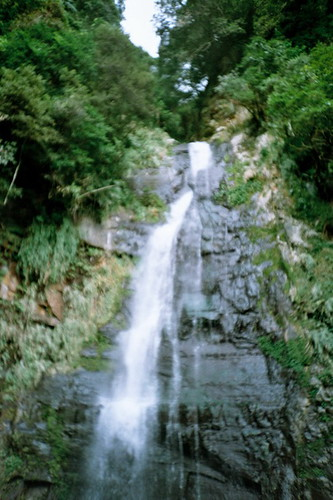wufengciWaterfall: (74, 128, 281, 497)
